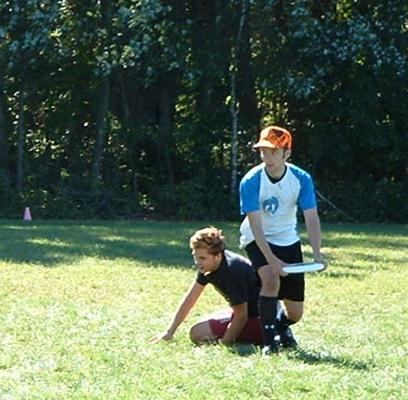person: (240, 126, 328, 353)
